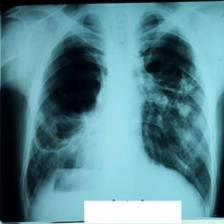tuberculosis: (18, 8, 216, 201)
